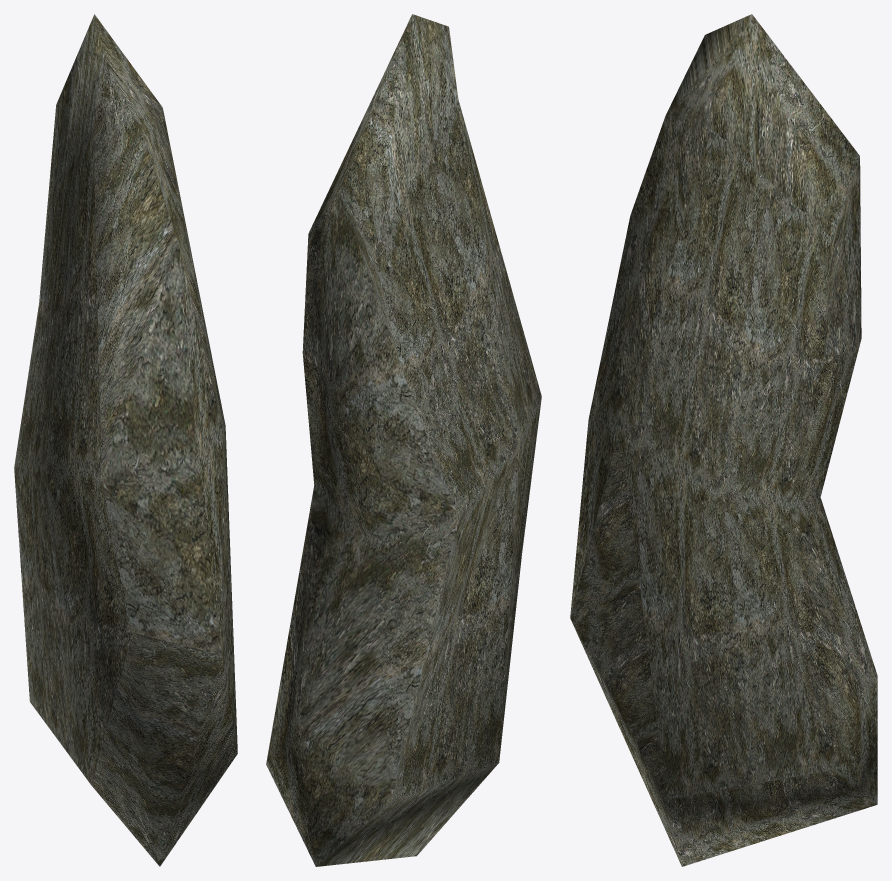
File: rock_dant_a3_l2.fbx
3 renders of one model, left to right at view 1: azimuth 30°, elevation 25°; view 2: azimuth 150°, elevation 25°; view 3: azimuth 270°, elevation 25°, orthographic. The views are drawn at different scales.
Parts seen in each view (by area): view 1: mesh_node; view 2: mesh_node; view 3: mesh_node.
Boxes of the visible parts, x1,y1,x2,y2 form: mesh_node: (14, 14, 237, 866); mesh_node: (266, 14, 541, 866); mesh_node: (570, 14, 877, 866).
Size of the model in its own units: 1.12 by 4.94 by 1.65.
1 material, 1 textured.
